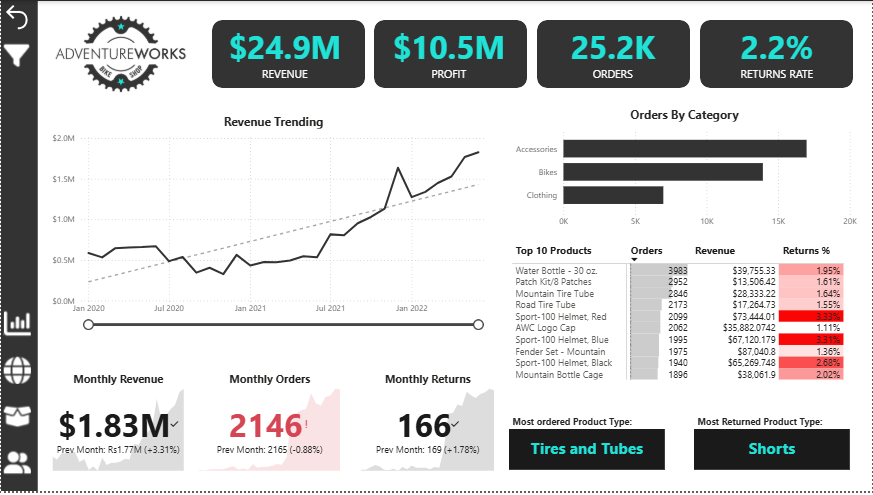

This screenshot's page, from the dashboard's own definition file:
{"tool":"powerbi","page":{"name":"Exec Dashboard","canvas":[1280,720],"ordinal":0},"visuals":[{"type":"shape","box":[309.8,27.2,225,100],"z":0},{"type":"shape","box":[548.7,27.2,225,100],"z":1000},{"type":"shape","box":[787.5,27.2,225,100],"z":2000},{"type":"shape","title":"Left Nav Background ","box":[0,0,54.4,720],"z":3000},{"type":"shape","box":[1026.4,27.2,225,100],"z":4000},{"type":"lineChart","title":"Revenue Trending","fields":{"Y":["Measure Table (DAX).Total Revenue"],"Category":["Calendar Lookup.Year","Calendar Lookup.Start of Quarter","Calendar Lookup.Start of Month"]},"box":[70,165,660,321.7],"z":5000},{"type":"image","title":"AW logo","box":[54.4,1.5,243.9,152.8],"z":6000},{"type":"kpi","title":"Monthly Revenue","fields":{"Indicator":["Measure Table (DAX).Total Revenue"],"TrendLine":["Calendar Lookup.Start of Month"],"Goal":["Measure Table (DAX).Previous Month Revenue"]},"box":[70,543.3,203.3,151.7],"z":7000},{"type":"kpi","title":"Monthly Orders","fields":{"TrendLine":["Calendar Lookup.Start of Month"],"Indicator":["Measure Table (DAX).Total Orders"],"Goal":["Measure Table (DAX).Previous Month Orders"]},"box":[286.7,543.3,216.7,151.7],"z":8000},{"type":"kpi","title":"Monthly Returns","fields":{"TrendLine":["Calendar Lookup.Start of Month"],"Indicator":["Measure Table (DAX).Total Returns"],"Goal":["Measure Table (DAX).Previous Month Returns"]},"box":[525,543.3,205,151.7],"z":9000},{"type":"clusteredBarChart","title":"Orders By Category","fields":{"Category":["Product Categories Lookup.CategoryName"],"Y":["Measure Table (DAX).Total Orders"]},"box":[746.4,154.3,515.8,188.1],"z":10000},{"type":"pivotTable","fields":{"Rows":["Product Lookup.ProductName"],"Values":["Measure Table (DAX).Total Orders","Measure Table (DAX).Total Revenue","Measure Table (DAX).Returns Rate"]},"box":[746.7,351.7,505,210],"z":11000},{"type":"card","fields":{"Values":["Min(Product Subcategories Lookup.SubcategoryName)"]},"box":[746.4,628.9,229.2,60.2],"z":12000},{"type":"textbox","box":[746.4,603.9,196.9,27.9],"z":13000},{"type":"card","fields":{"Values":["Min(Product Subcategories Lookup.SubcategoryName)"]},"box":[1018.3,628.9,229.2,60.2],"z":14000},{"type":"textbox","box":[1018.3,603.9,201.3,27.9],"z":15000},{"type":"card","title":"Card","fields":{"Values":["Measure Table (DAX).Total Orders"]},"box":[777,0.5,243.3,151.7],"z":16000},{"type":"card","title":"Card","fields":{"Values":["Measure Table (DAX).Total Profit"]},"box":[535.9,0.5,243.3,151.7],"z":17000},{"type":"card","title":"Card","fields":{"Values":["Measure Table (DAX).Returns Rate"]},"box":[1018.1,0.5,243.3,151.7],"z":18000},{"type":"card","title":"Card","fields":{"Values":["Measure Table (DAX).Total Revenue"]},"box":[294.8,0.5,243.3,151.7],"z":19000},{"type":"actionButton","box":[0,0,54.4,47],"z":20000},{"type":"actionButton","box":[0,450.1,54.4,48.5],"z":21000},{"type":"actionButton","box":[0,586.3,54.4,48.5],"z":22000},{"type":"actionButton","box":[0,518.2,54.4,48.5],"z":23000},{"type":"actionButton","box":[0,654.4,54.4,48.5],"z":24000},{"type":"actionButton","box":[0,57.3,54.4,45.6],"z":25000}]}

Visuals, with their boxes on the page's 1280x720 design canvas (x1, y1, x2, y2). These are canvas units, not pixel positions in the 873x495 screenshot, which may show the page scaled, cropped or inside an application window:
shape: box=[310, 27, 535, 127]
shape: box=[549, 27, 774, 127]
shape: box=[788, 27, 1012, 127]
"Left Nav Background " shape: box=[0, 0, 54, 720]
shape: box=[1026, 27, 1251, 127]
"Revenue Trending" lineChart: box=[70, 165, 730, 487]
"AW logo" image: box=[54, 2, 298, 154]
"Monthly Revenue" kpi: box=[70, 543, 273, 695]
"Monthly Orders" kpi: box=[287, 543, 503, 695]
"Monthly Returns" kpi: box=[525, 543, 730, 695]
"Orders By Category" clusteredBarChart: box=[746, 154, 1262, 342]
pivotTable - Product Lookup.ProductName x Measure Table (DAX).Total Orders: box=[747, 352, 1252, 562]
card - Min(Product Subcategories Lookup.SubcategoryName): box=[746, 629, 976, 689]
textbox: box=[746, 604, 943, 632]
card - Min(Product Subcategories Lookup.SubcategoryName): box=[1018, 629, 1248, 689]
textbox: box=[1018, 604, 1220, 632]
"Card" card: box=[777, 0, 1020, 152]
"Card" card: box=[536, 0, 779, 152]
"Card" card: box=[1018, 0, 1261, 152]
"Card" card: box=[295, 0, 538, 152]
actionButton: box=[0, 0, 54, 47]
actionButton: box=[0, 450, 54, 499]
actionButton: box=[0, 586, 54, 635]
actionButton: box=[0, 518, 54, 567]
actionButton: box=[0, 654, 54, 703]
actionButton: box=[0, 57, 54, 103]
